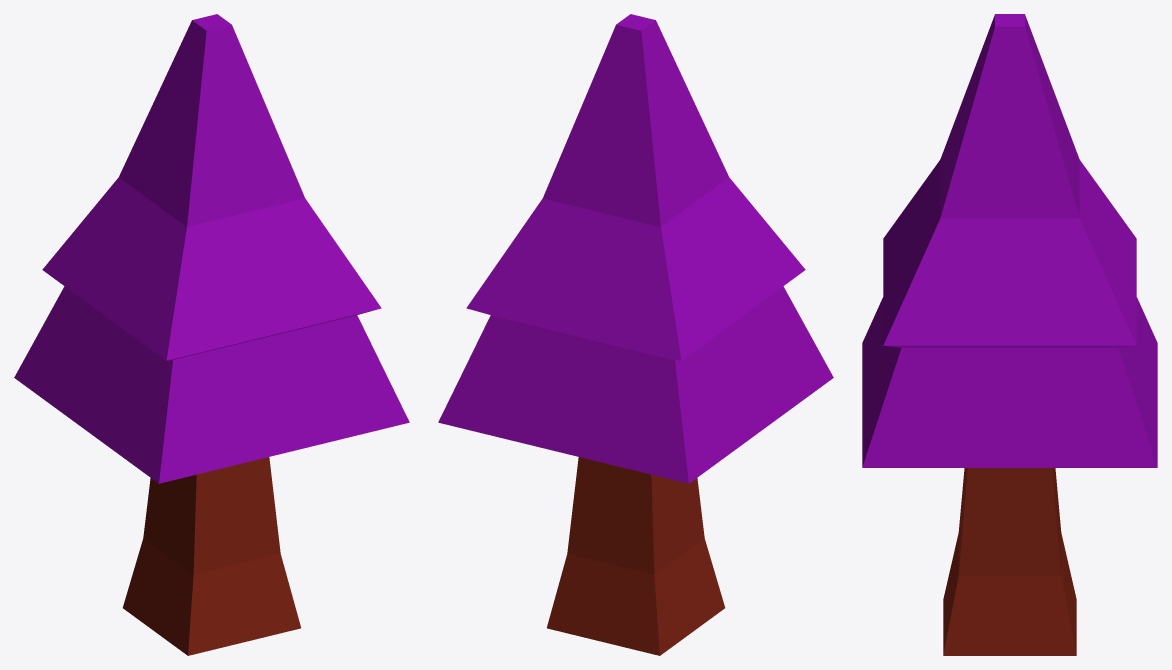
Rendered from caveTree.fbx.
3 renders of one model, left to right at view 1: azimuth 30°, elevation 25°; view 2: azimuth 150°, elevation 25°; view 3: azimuth 270°, elevation 25°, orthographic.
Parts seen in each view (by area): view 1: Cube; view 2: Cube; view 3: Cube.
Boxes of the visible parts, x1=… form: Cube: x1=14, y1=14, x2=409, y2=655; Cube: x1=438, y1=14, x2=833, y2=655; Cube: x1=862, y1=14, x2=1157, y2=655.
Bounding box in the file's own units: 727 × 1651 × 727.
Materials: 1 (1 with a texture image).
